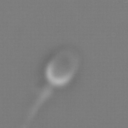normal: (19, 85, 55, 125)
